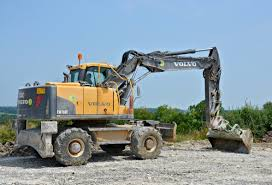excavator: (11, 44, 257, 166)
